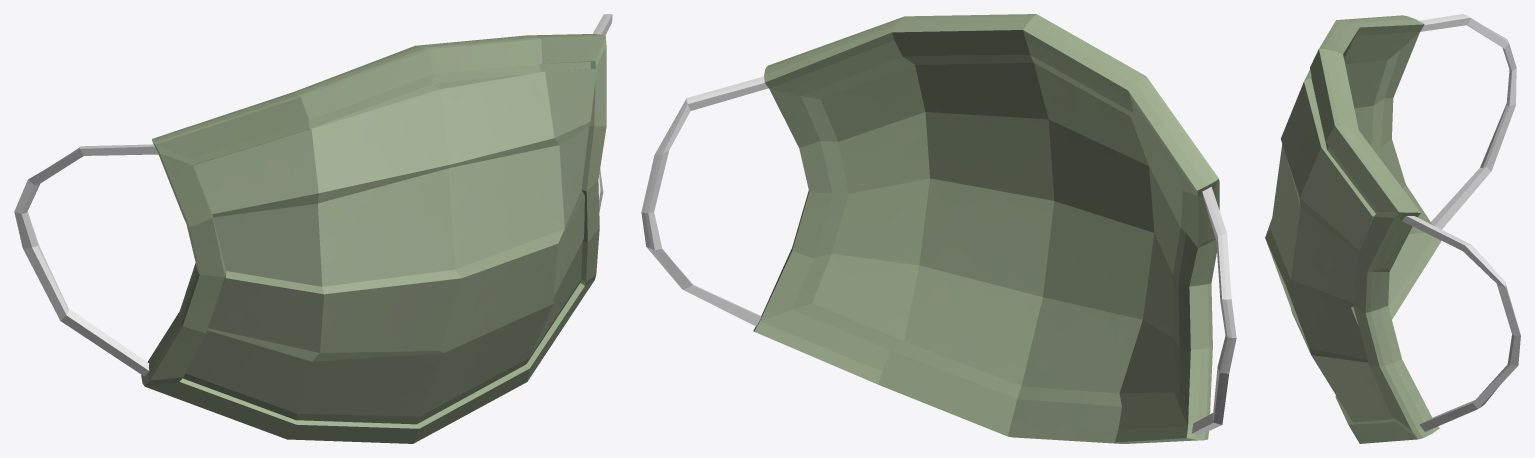
Rendered from face_mask_1.glb.
3 views of the same model, side by side, from view 1: azimuth 30°, elevation 25°; view 2: azimuth 150°, elevation 25°; view 3: azimuth 270°, elevation 25° (orthographic). The views are drawn at different scales.
Parts seen in each view (by area): view 1: face_mask_1; view 2: face_mask_1; view 3: face_mask_1.
Part boxes in pixels (x1,y1,x2,y2): face_mask_1: [14, 14, 612, 443]; face_mask_1: [641, 14, 1236, 443]; face_mask_1: [1265, 14, 1520, 443].
Bounding box in the file's own units: 0.1822 × 0.1208 × 0.0765.
1 material, 1 textured.
